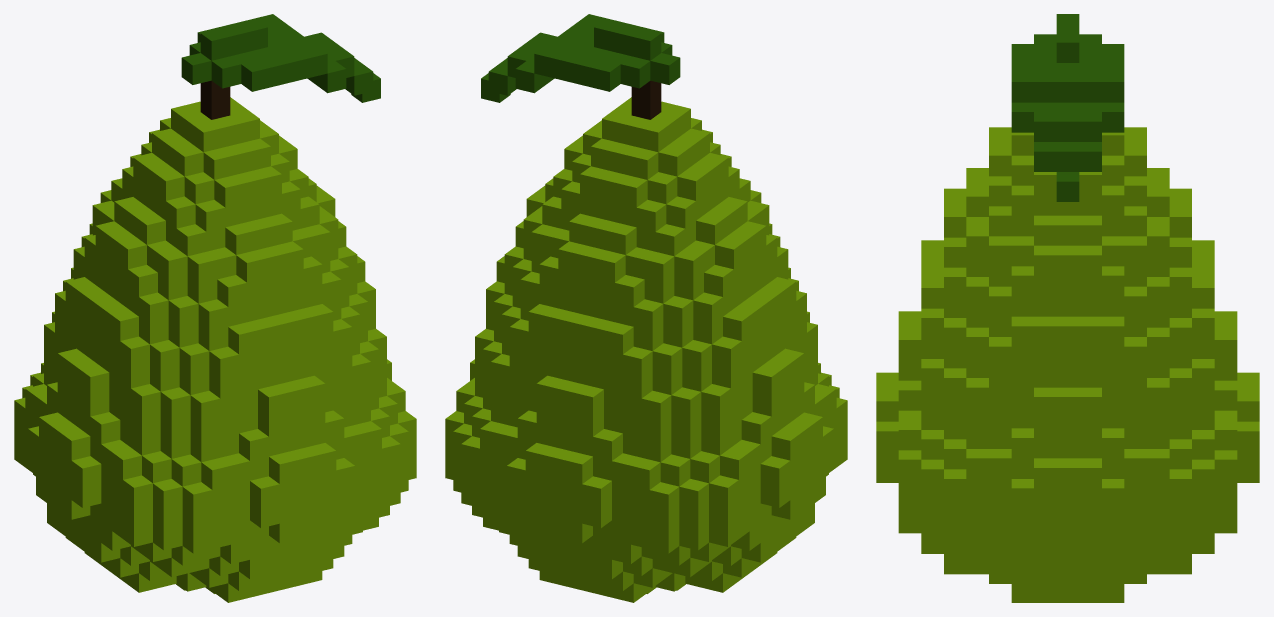
The model's file is Pear.fbx.
The picture shows the model from 3 angles, left to right: view 1: azimuth 30°, elevation 25°; view 2: azimuth 150°, elevation 25°; view 3: azimuth 270°, elevation 25°; orthographic projection. The views are drawn at different scales.
Visible parts, largest first — view 1: Untitled; view 2: Untitled; view 3: Untitled.
Part boxes in pixels (x1,y1,x2,y2): Untitled: [14, 14, 416, 602]; Untitled: [445, 14, 847, 602]; Untitled: [876, 14, 1259, 602].
Size of the model in its own units: 170 by 270 by 170.
